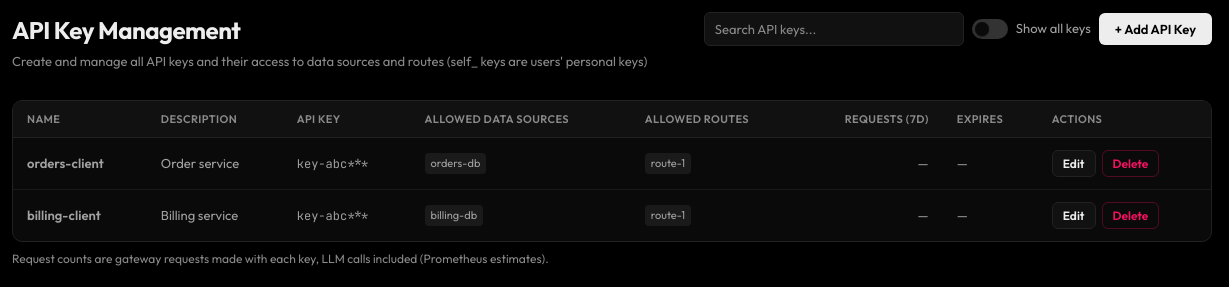
Scenario: ApiKeys › filters API keys by search text
Expected: the text "orders-client" is shown, top-left (13, 138), bottom-right (147, 190)
Type "billing" into the search field labelled "Search API keys...". click: (834, 29)
box: top-left (704, 12), bottom-right (964, 46)
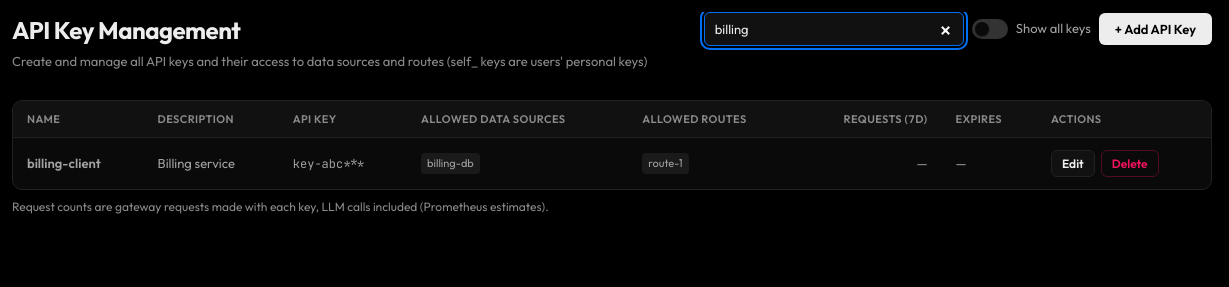
Expected: the text "billing-client" is shown, top-left (13, 138), bottom-right (144, 189)
Now the text "orders-client" is gone
Replace the text in the search field named "Search API keys..." with "missing". click: (834, 29)
box: top-left (704, 12), bottom-right (964, 46)
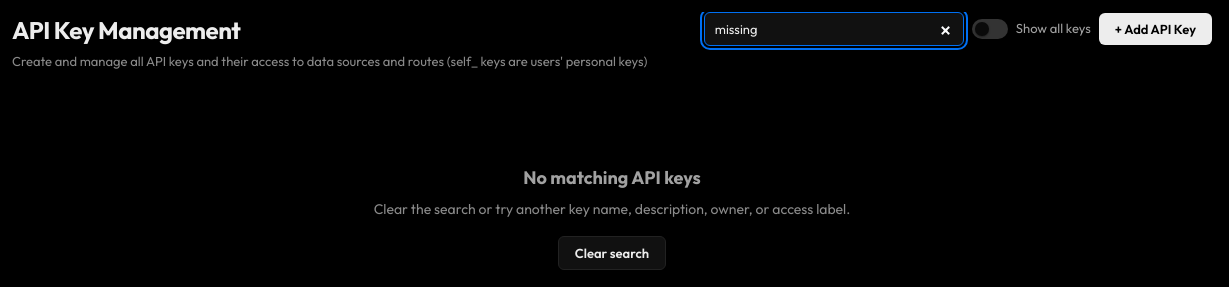
Now the heading "No matching API keys" is shown, box top-left (523, 166), bottom-right (701, 188)
Click the button "Clear search". click: (612, 252)
box: top-left (558, 236), bottom-right (666, 270)
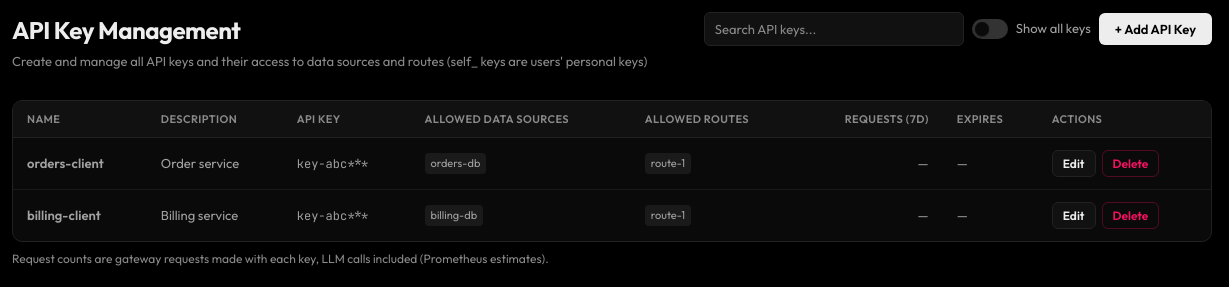
Now the text "orders-client" is shown, box top-left (13, 138), bottom-right (147, 190)
Now the text "billing-client" is shown, box top-left (13, 190), bottom-right (147, 241)
